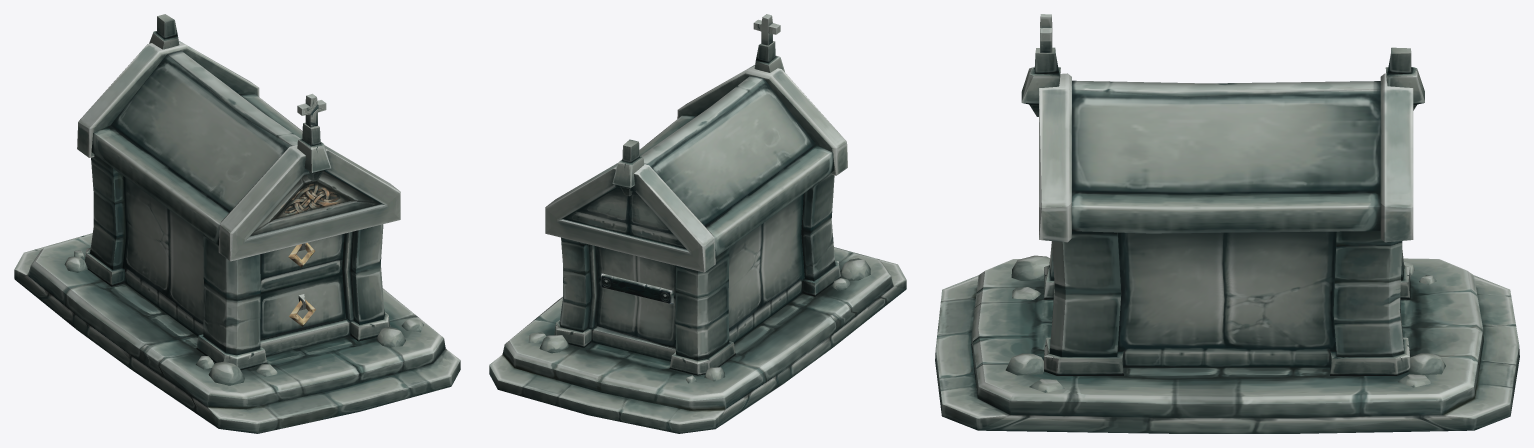
Rendered from cripta.obj.
3 renders of one model, left to right at view 1: azimuth 30°, elevation 25°; view 2: azimuth 150°, elevation 25°; view 3: azimuth 270°, elevation 25°, orthographic. The views are drawn at different scales.
Parts seen in each view (by area): view 1: tomb_Shape1_tomb_mat_001; view 2: tomb_Shape1_tomb_mat_001; view 3: tomb_Shape1_tomb_mat_001.
Part boxes in pixels (x1,y1,x2,y2): tomb_Shape1_tomb_mat_001: (14, 14, 460, 433); tomb_Shape1_tomb_mat_001: (489, 14, 906, 433); tomb_Shape1_tomb_mat_001: (935, 14, 1519, 433).
Size of the model in its own units: 39.26 by 42.05 by 64.9.
Materials: 1 (1 with a texture image).
